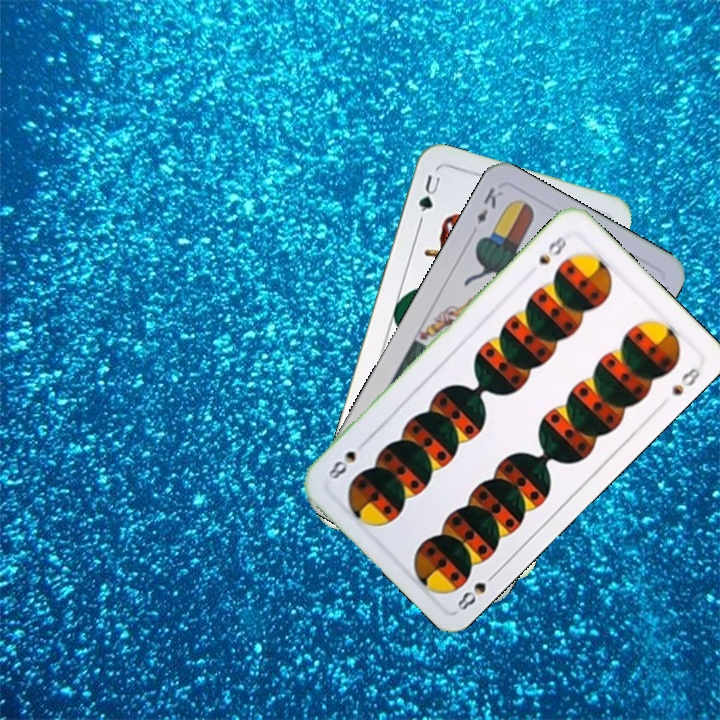EK: (472, 182, 506, 227)
GU: (414, 170, 443, 215)
S8: (453, 567, 501, 613), (534, 229, 574, 268)
